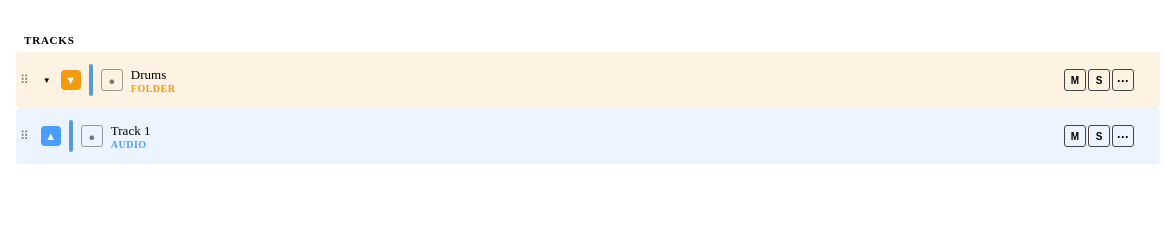
Test: TrackHeaders › context menu shows Move Into options when folder tracks exist
This screenshot has width=1164, height=239.
Step 1. Right-click the element with class "th-row" showing "⠿ ▲ ● Track 1 AUDIO M S ⋯" → (588, 136), box [16,108,1160,164]
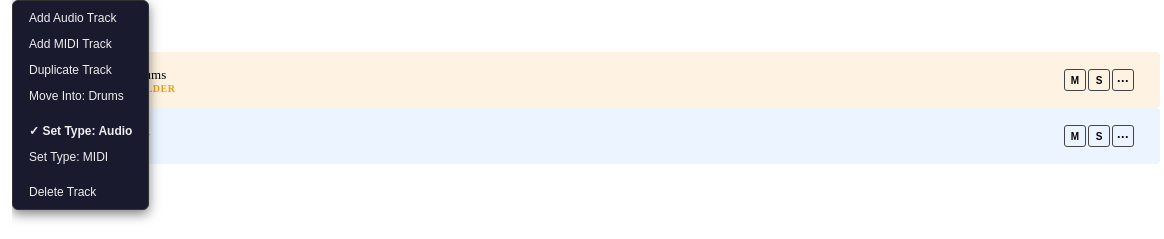
Result: the button "Move Into: Drums" is shown at [13,83,148,109]
